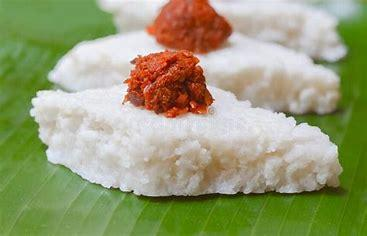Kiribath: (39, 8, 345, 212)
Lunu sambol: (116, 45, 225, 118)
